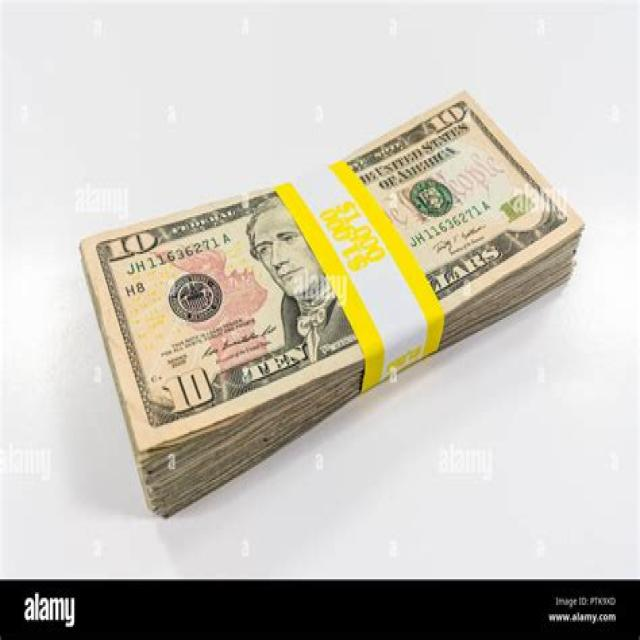Ten: (82, 89, 582, 450)
